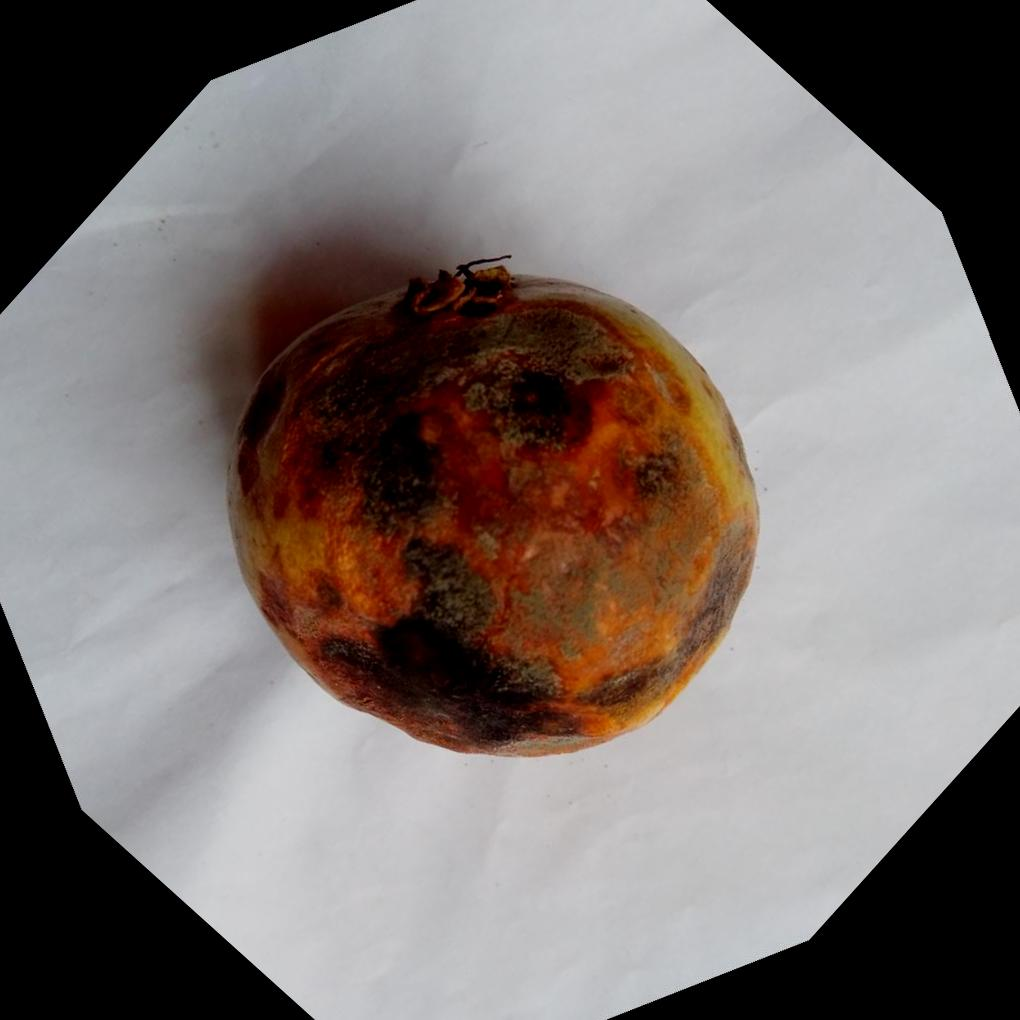FreshOrange: (222, 255, 762, 764)
